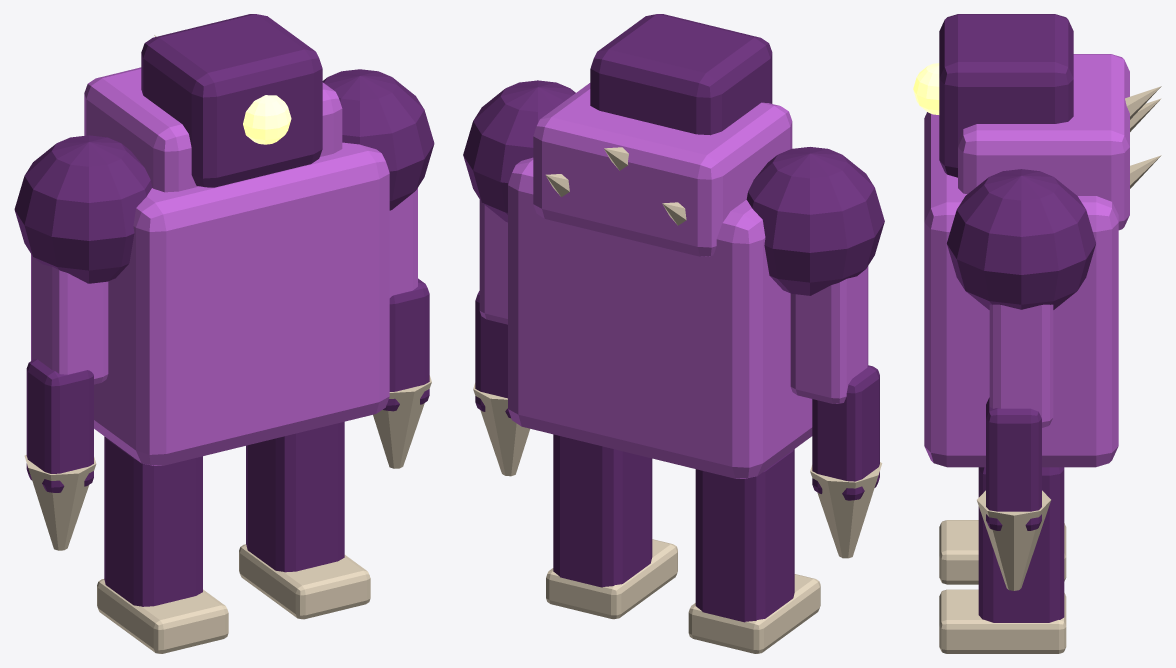
The model's file is SM_Schlurfer.glb.
3 renders of one model, left to right at view 1: azimuth 30°, elevation 25°; view 2: azimuth 150°, elevation 25°; view 3: azimuth 270°, elevation 25°, orthographic.
Visible parts, largest first — view 1: SM_Schlurfer; view 2: SM_Schlurfer; view 3: SM_Schlurfer.
Part boxes in pixels (left/top/right/bottom): SM_Schlurfer: left=14, top=14, right=434, bottom=653; SM_Schlurfer: left=463, top=14, right=884, bottom=653; SM_Schlurfer: left=913, top=14, right=1161, bottom=653.
Size of what is drawn, in the model's own units: 1.24 by 1.67 by 0.6656.
